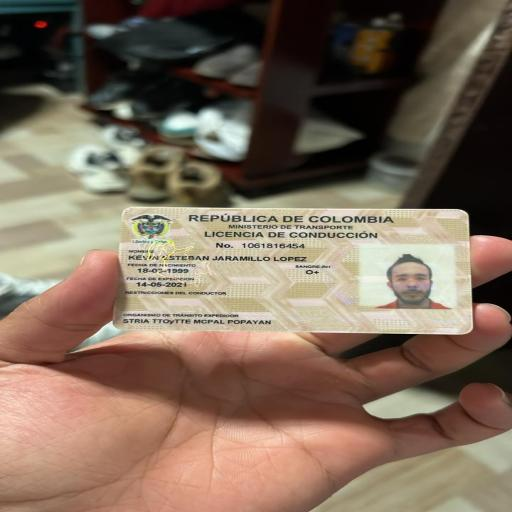colombia: (185, 212, 410, 226)
fechaexpedicion: (132, 278, 215, 289)
fechanacimiento: (132, 266, 202, 276)
foto: (364, 250, 449, 311)
ministerio de transporte: (220, 220, 366, 231)
nombre: (128, 251, 311, 265)
tarjeta conduccion: (122, 206, 471, 338)
titulo licencia: (204, 228, 387, 241)
